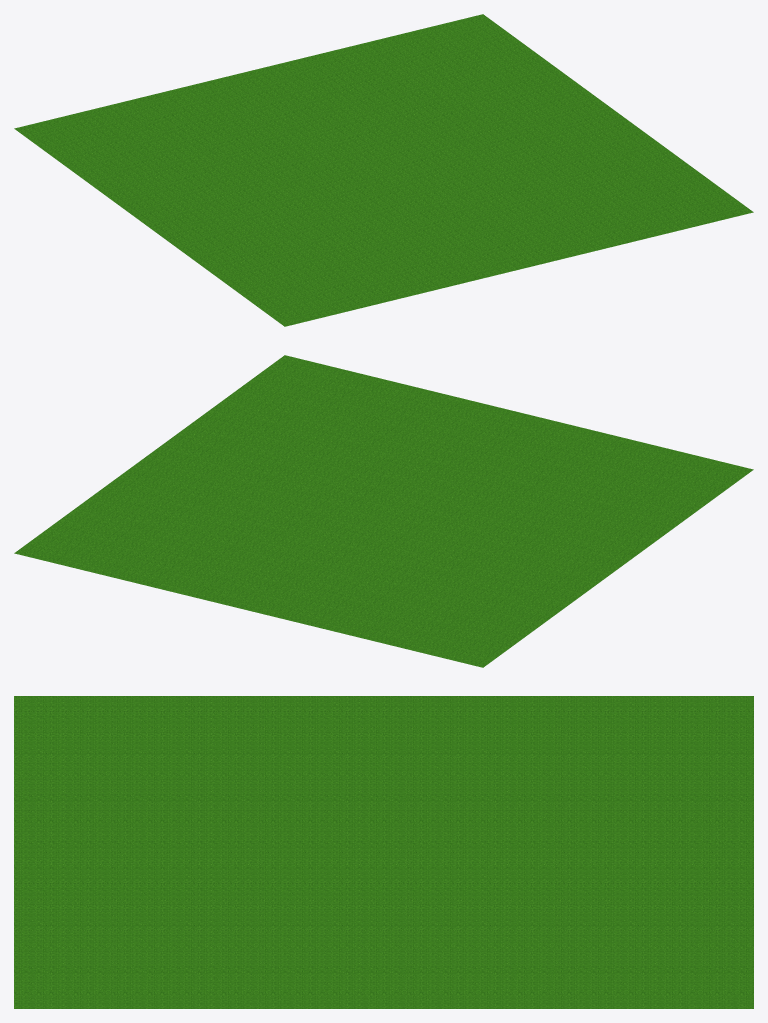
File: Pasto.obj
3 views of the same model, one above another, from view 1: azimuth 30°, elevation 25°; view 2: azimuth 150°, elevation 25°; view 3: azimuth 270°, elevation 25° (orthographic). The views are drawn at different scales.
Visible parts, largest first — view 1: Plane001; view 2: Plane001; view 3: Plane001.
Boxes of the visible parts, x1,y1,x2,y2 form: Plane001: (14, 14, 753, 326); Plane001: (14, 355, 753, 667); Plane001: (14, 696, 753, 1008).
Size of the model in its own units: 2000 by 0 by 2000.
1 material, 1 textured.
